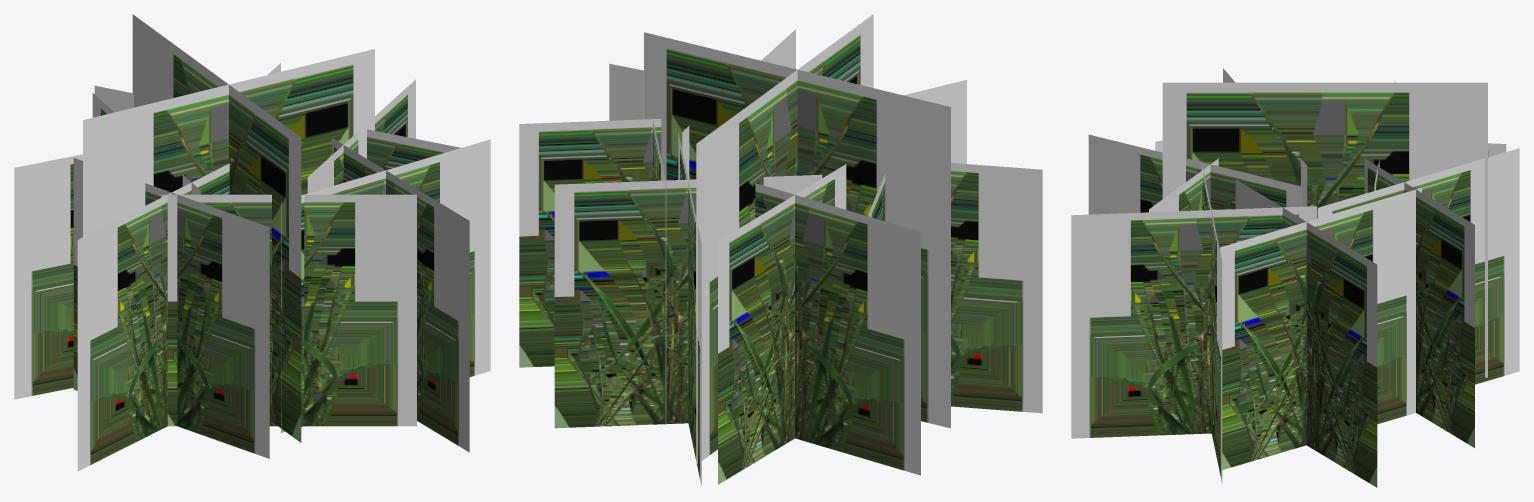
File: grass tropical2.FBX
3 renders of one model, left to right at view 1: azimuth 30°, elevation 25°; view 2: azimuth 150°, elevation 25°; view 3: azimuth 270°, elevation 25°, orthographic. The views are drawn at different scales.
Visible parts, largest first — view 1: grass tropical2; view 2: grass tropical2; view 3: grass tropical2.
Part boxes in pixels (x1,y1,x2,y2): grass tropical2: (14, 14, 490, 471); grass tropical2: (519, 14, 1042, 485); grass tropical2: (1071, 68, 1519, 487).
Size of the model in its own units: 12.88 by 9.13 by 12.4.
